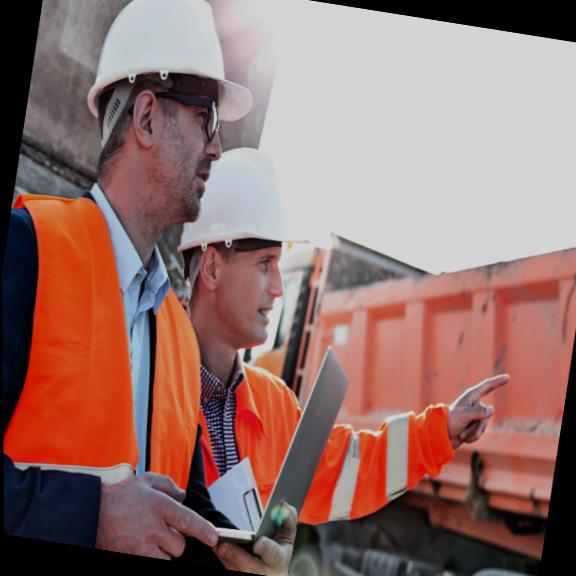safety_vest: (1, 184, 221, 546)
